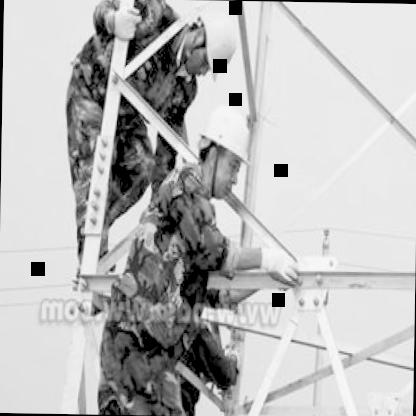helmet: (195, 98, 253, 200), (179, 4, 240, 82)
